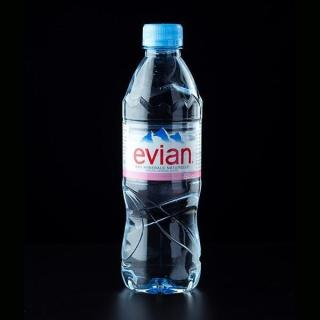Plastic-bottle: (120, 23, 205, 296)
